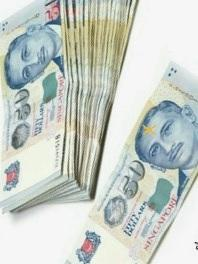50SingaporeDollar: (2, 0, 65, 189)
